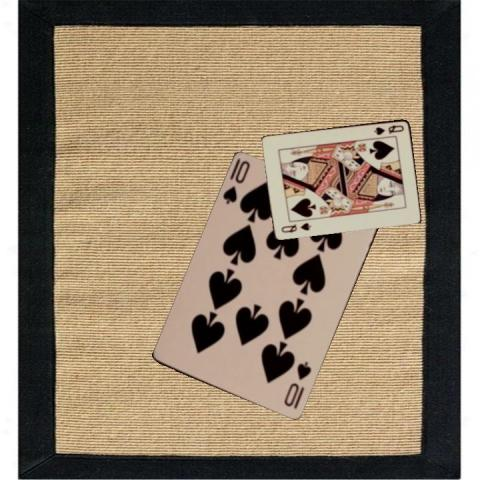10s: (281, 359, 313, 409), (220, 158, 252, 207)
Qs: (372, 121, 406, 136), (279, 219, 311, 234)
